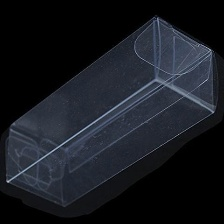plastic_box: (0, 10, 224, 214)
